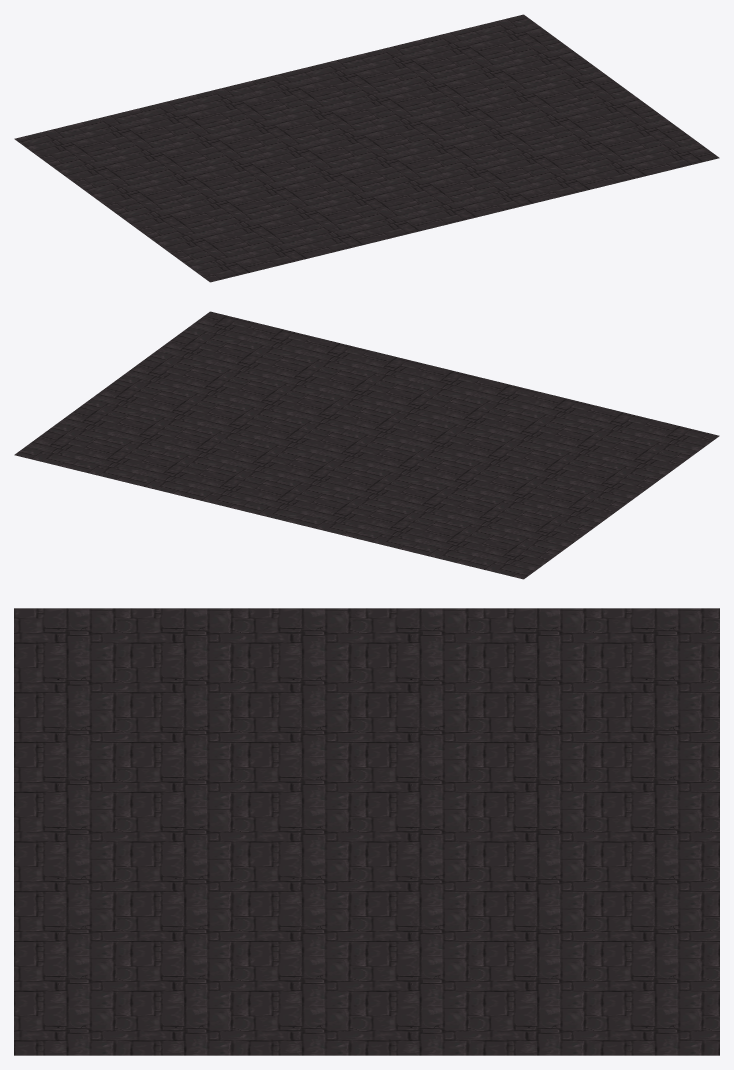
File: floor.obj
3 renders of one model, top to bottom at view 1: azimuth 30°, elevation 25°; view 2: azimuth 150°, elevation 25°; view 3: azimuth 270°, elevation 25°, orthographic. The views are drawn at different scales.
Visible parts, largest first — view 1: Floor_Tilable.019_Material.001_0, Floor_Tilable.026_Material.001_0, Floor_Tilable.038_Material.001_0, Floor_Tilable.042_Material.001_0, Floor_Tilable.011_Material.001_0, Floor_Tilable.013_Material.001_0, Floor_Tilable.017_Material.001_0, Floor_Tilable.024_Material.001_0, Floor_Tilable.040_Material.001_0, Floor_Tilable.047_Material.001_0, Floor_Tilable.048_Material.001_0, Floor_Tilable.053_Material.001_0 (+42 smaller); view 2: Floor_Tilable.010_Material.001_0, Floor_Tilable.018_Material.001_0, Floor_Tilable.046_Material.001_0, Floor_Tilable.051_Material.001_0, Floor_Tilable.014_Material.001_0, Floor_Tilable.021_Material.001_0, Floor_Tilable.022_Material.001_0, Floor_Tilable.027_Material.001_0, Floor_Tilable.037_Material.001_0, Floor_Tilable.039_Material.001_0, Floor_Tilable.043_Material.001_0, Floor_Tilable.050_Material.001_0 (+42 smaller); view 3: Floor_Tilable.014_Material.001_0, Floor_Tilable.024_Material.001_0, Floor_Tilable.040_Material.001_0, Floor_Tilable.050_Material.001_0, Floor_Tilable.011_Material.001_0, Floor_Tilable.017_Material.001_0, Floor_Tilable.021_Material.001_0, Floor_Tilable.027_Material.001_0, Floor_Tilable.037_Material.001_0, Floor_Tilable.043_Material.001_0, Floor_Tilable.047_Material.001_0, Floor_Tilable.053_Material.001_0 (+42 smaller).
Boxes of the visible parts, box(x1,y1,x2,y2) form: Floor_Tilable.019_Material.001_0: box(136, 159, 224, 196); Floor_Tilable.026_Material.001_0: box(14, 125, 102, 162); Floor_Tilable.038_Material.001_0: box(631, 134, 719, 171); Floor_Tilable.042_Material.001_0: box(509, 100, 597, 137); Floor_Tilable.011_Material.001_0: box(419, 90, 507, 127); Floor_Tilable.013_Material.001_0: box(443, 52, 532, 89); Floor_Tilable.017_Material.001_0: box(354, 42, 442, 79); Floor_Tilable.024_Material.001_0: box(160, 121, 248, 158); Floor_Tilable.040_Material.001_0: box(485, 138, 573, 175); Floor_Tilable.047_Material.001_0: box(291, 217, 379, 254); Floor_Tilable.048_Material.001_0: box(201, 207, 290, 244); Floor_Tilable.053_Material.001_0: box(226, 169, 314, 206); Floor_Tilable.010_Material.001_0: box(136, 397, 224, 434); Floor_Tilable.018_Material.001_0: box(14, 431, 102, 468); Floor_Tilable.046_Material.001_0: box(631, 422, 719, 459); Floor_Tilable.051_Material.001_0: box(509, 456, 597, 493); Floor_Tilable.014_Material.001_0: box(160, 435, 248, 472); Floor_Tilable.021_Material.001_0: box(419, 466, 507, 503); Floor_Tilable.022_Material.001_0: box(443, 504, 532, 541); Floor_Tilable.027_Material.001_0: box(354, 514, 442, 551); Floor_Tilable.037_Material.001_0: box(291, 339, 379, 376); Floor_Tilable.039_Material.001_0: box(201, 349, 290, 386); Floor_Tilable.043_Material.001_0: box(226, 387, 314, 424); Floor_Tilable.050_Material.001_0: box(485, 418, 573, 455); Floor_Tilable.014_Material.001_0: box(484, 906, 602, 956); Floor_Tilable.024_Material.001_0: box(484, 707, 602, 757); Floor_Tilable.040_Material.001_0: box(131, 906, 249, 956); Floor_Tilable.050_Material.001_0: box(131, 707, 249, 757); Floor_Tilable.011_Material.001_0: box(367, 906, 484, 956); Floor_Tilable.017_Material.001_0: box(602, 906, 719, 956); Floor_Tilable.021_Material.001_0: box(367, 707, 484, 757); Floor_Tilable.027_Material.001_0: box(602, 707, 719, 757); Floor_Tilable.037_Material.001_0: box(14, 906, 131, 956); Floor_Tilable.043_Material.001_0: box(249, 906, 366, 956); Floor_Tilable.047_Material.001_0: box(14, 707, 131, 757); Floor_Tilable.053_Material.001_0: box(249, 707, 366, 757).
Bounding box in the file's own units: 180 × 1.6e-05 × 120.
Materials: 1 (1 with a texture image).
